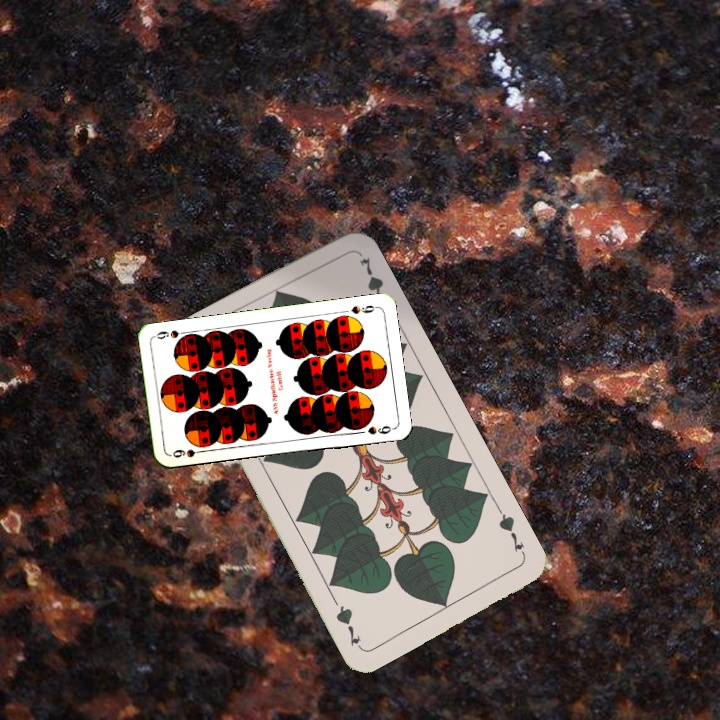G7: (494, 505, 529, 560)
S9: (169, 445, 209, 460), (347, 301, 380, 316)
